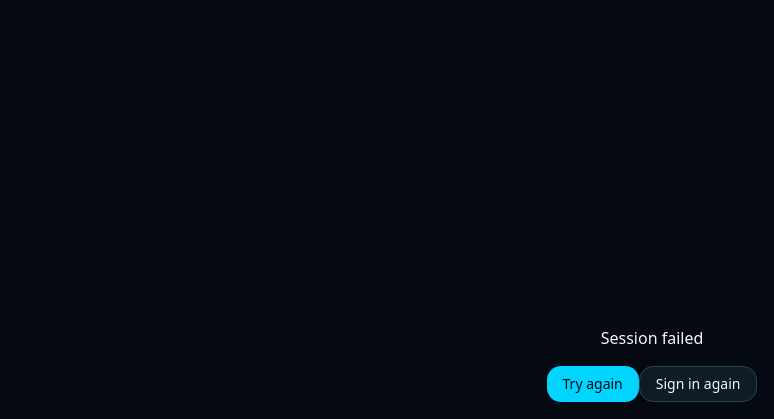
Test: protected routes › blocks content immediately after logout
Click the button "Sign in again" at (698, 384), box [639,366,758,402]
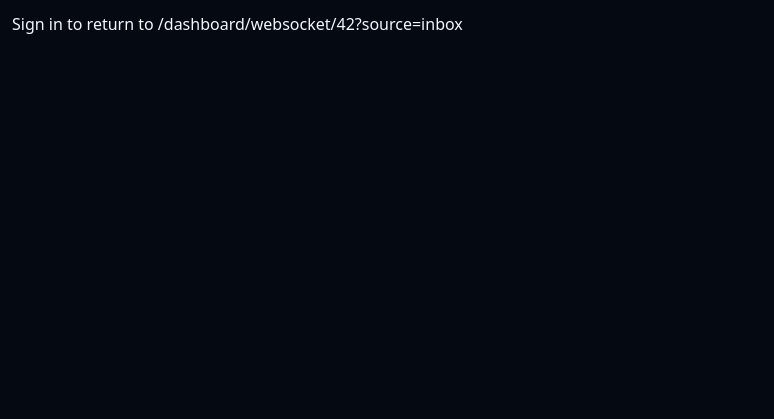
Now the text "Sign in to return to /dashboard/websocket/42?source=inbox" is shown, box [12,13,463,35]
